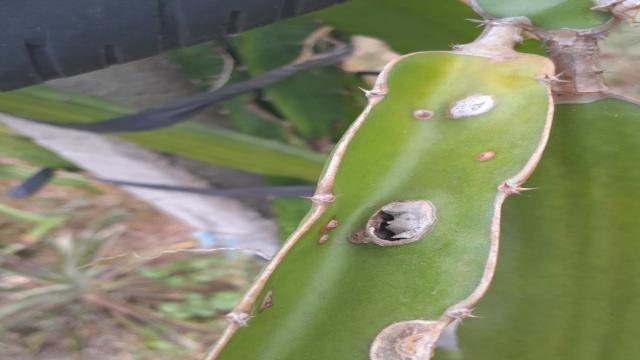stemcanker: (254, 284, 278, 319), (475, 147, 499, 165), (410, 108, 437, 122), (321, 215, 342, 233), (312, 229, 333, 247)
